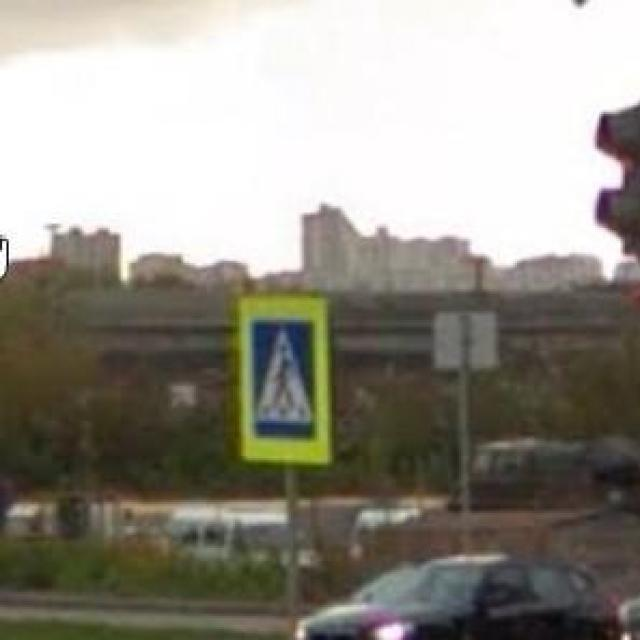crosswalk: (235, 294, 332, 467)
